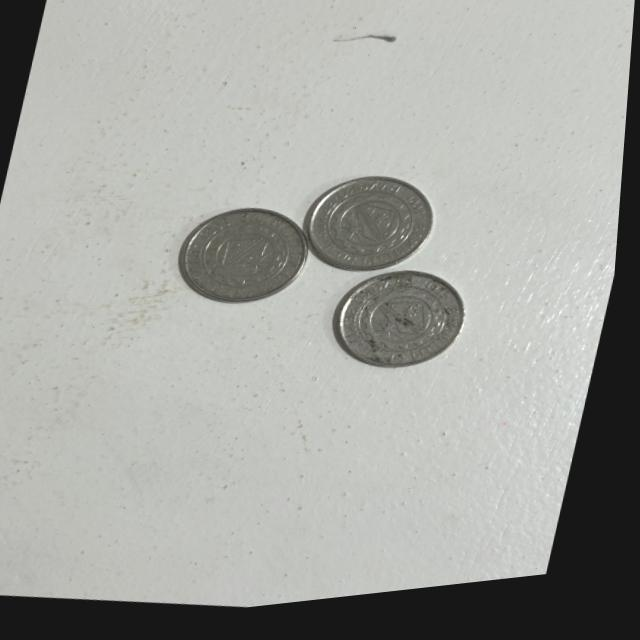1_Old_Back: (319, 188, 426, 279), (197, 217, 303, 306), (354, 284, 460, 372)
